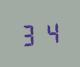four: (40, 20, 60, 45)
three: (19, 21, 39, 47)
